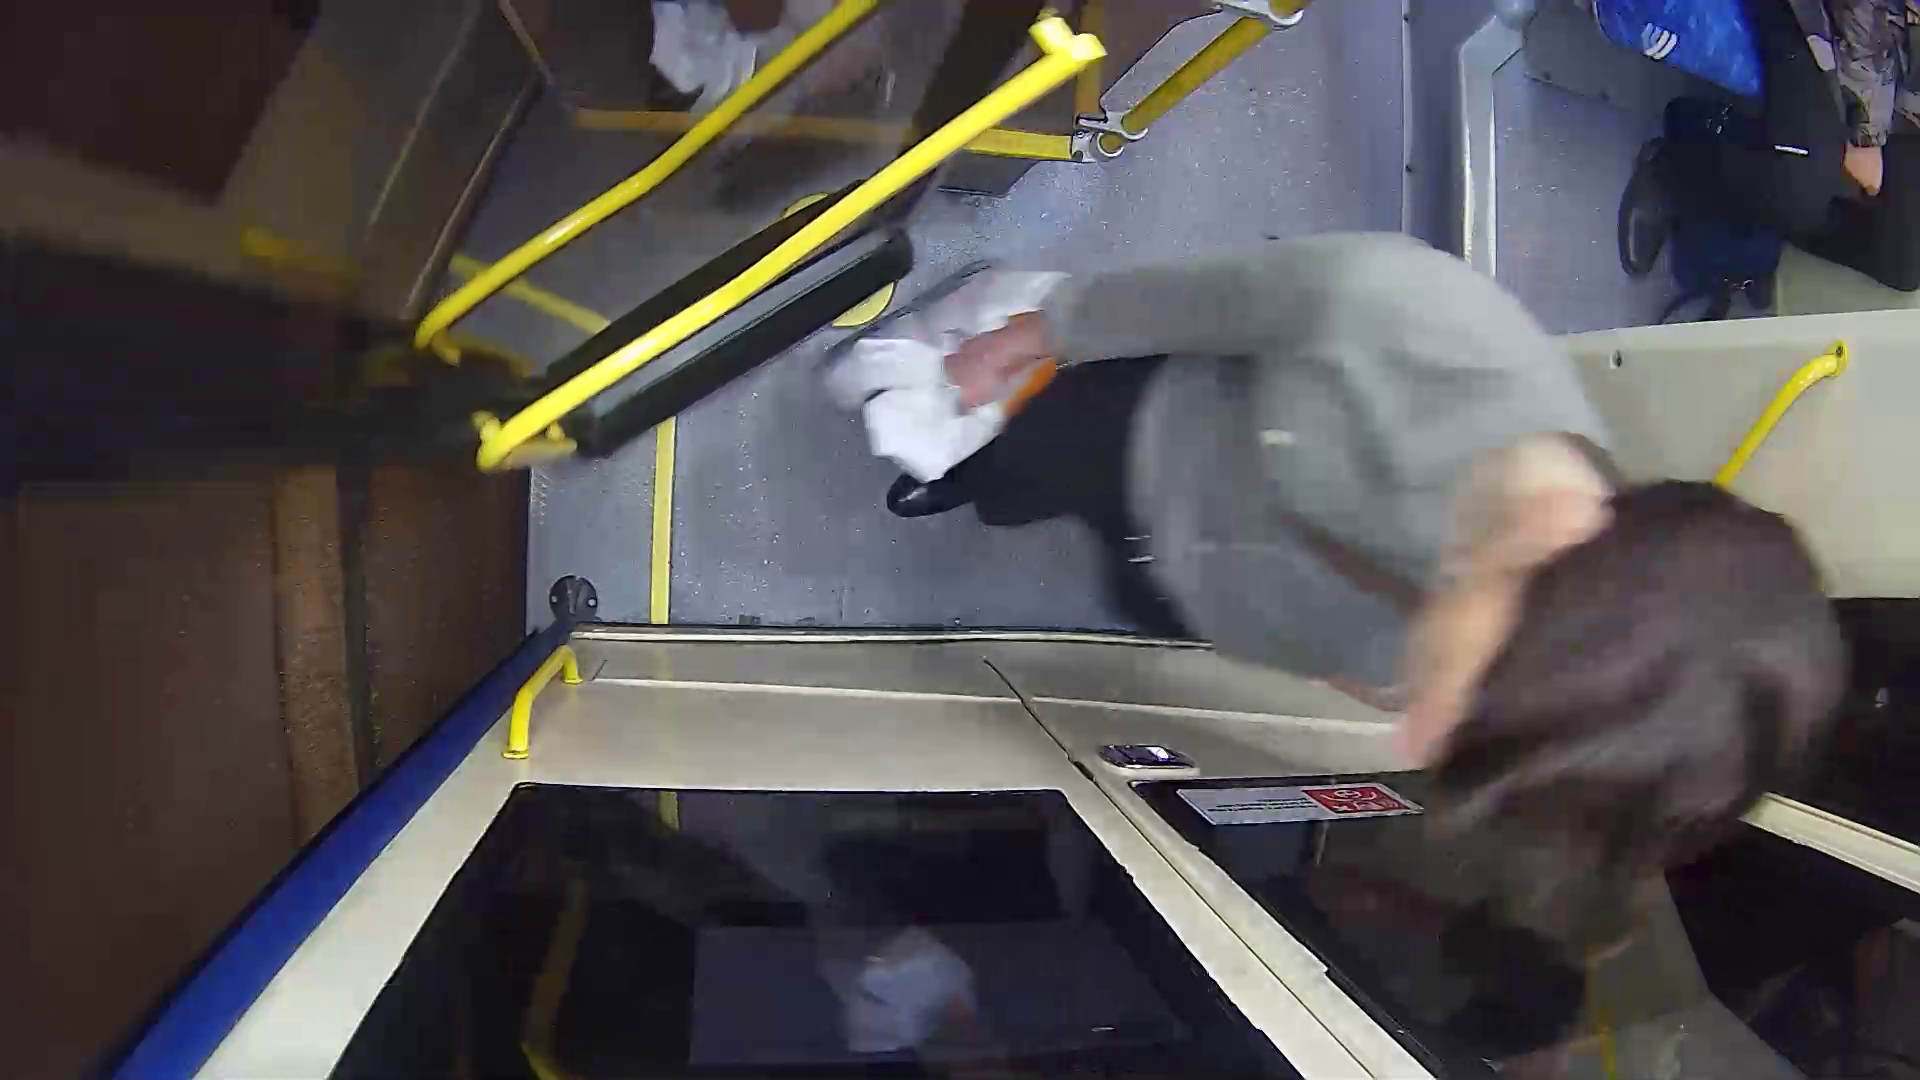person: (898, 226, 1866, 954)
